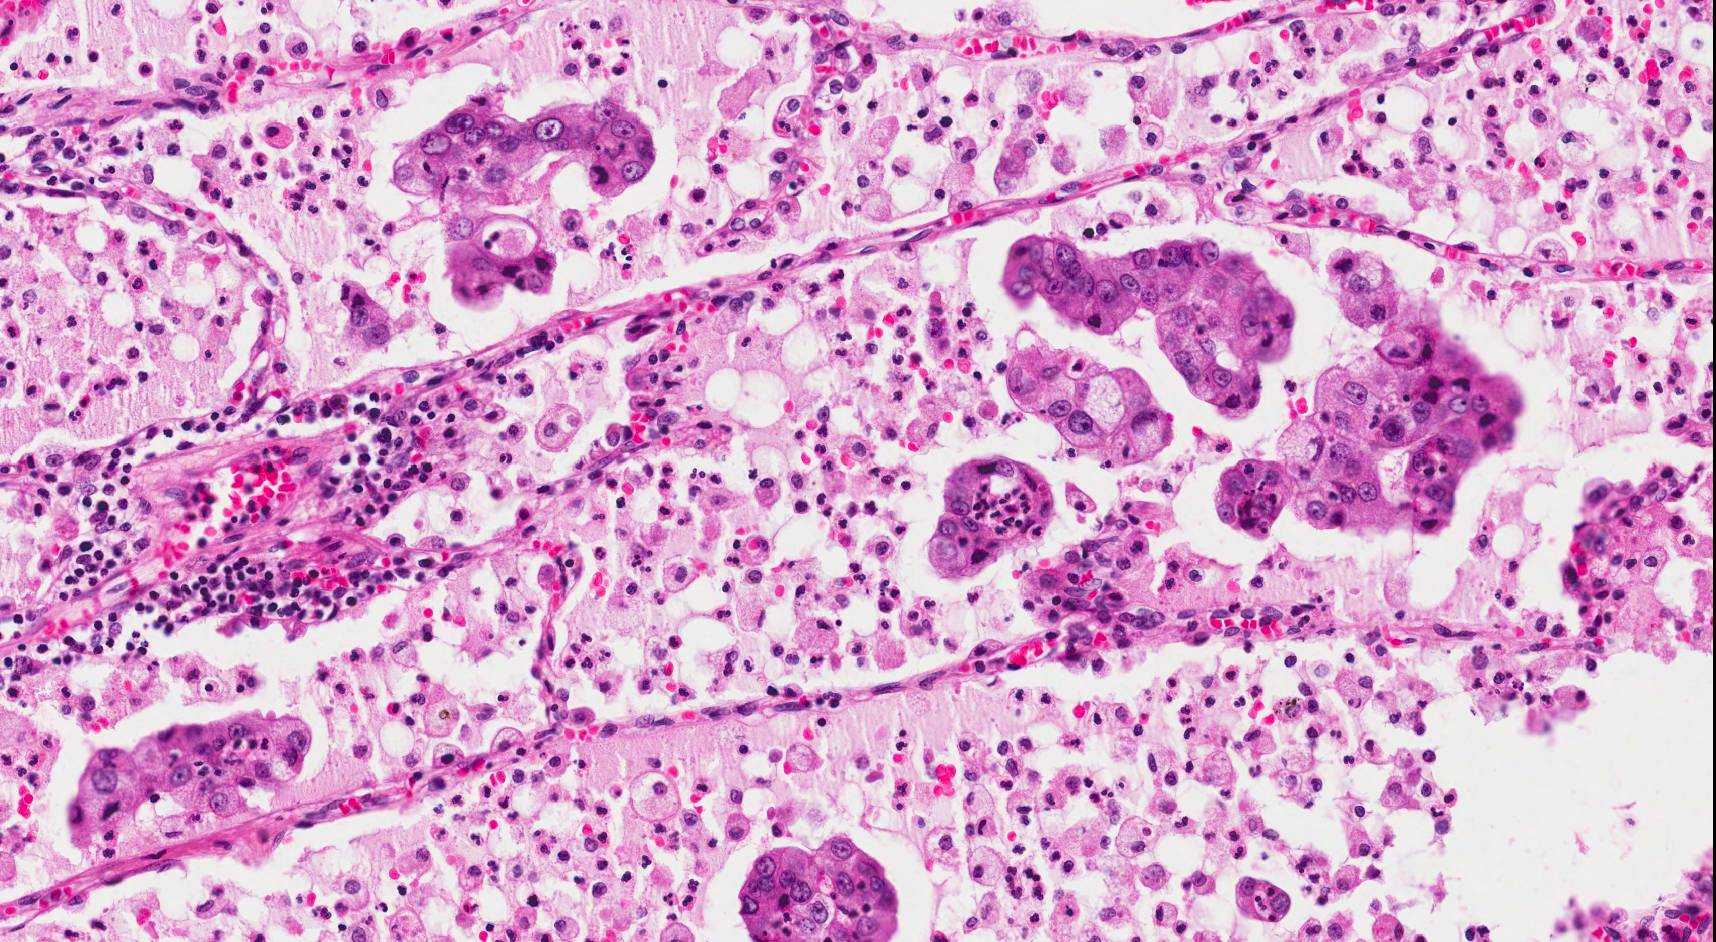stas: (1213, 245, 1530, 545), (1000, 227, 1299, 420), (391, 100, 658, 305), (68, 709, 312, 851), (1005, 323, 1176, 468), (923, 452, 1060, 580), (739, 835, 901, 942), (339, 283, 414, 356), (1233, 873, 1294, 925)
